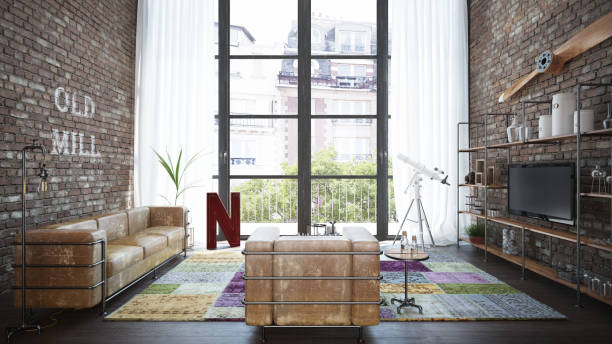TV: (504, 160, 578, 229)
chair: (242, 225, 382, 344)
sofa: (8, 204, 193, 314)
